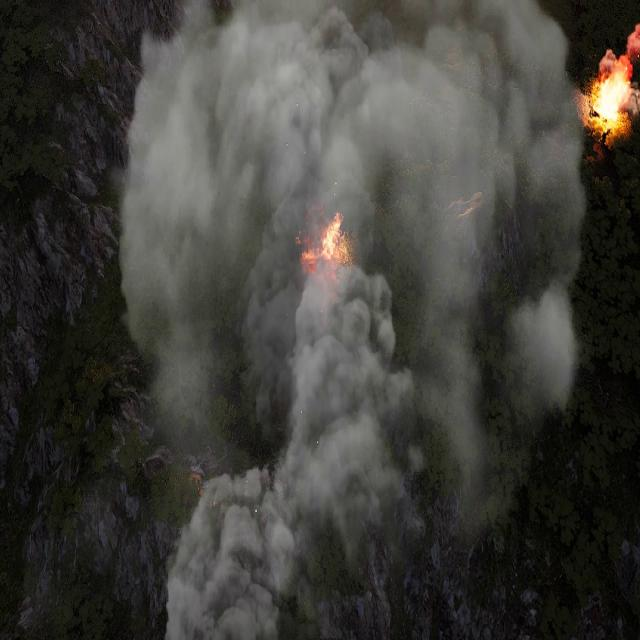fire: (589, 61, 631, 135), (300, 211, 347, 275)
smoke: (118, 2, 620, 640), (614, 0, 640, 67)
